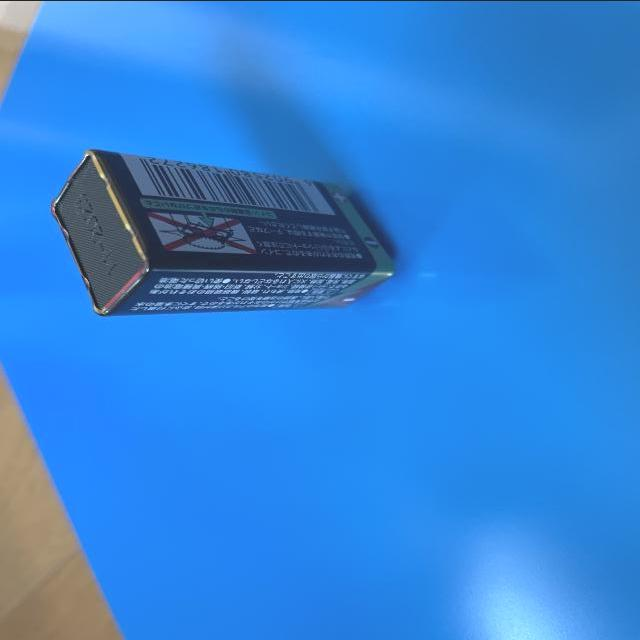9V: (50, 148, 397, 316)
